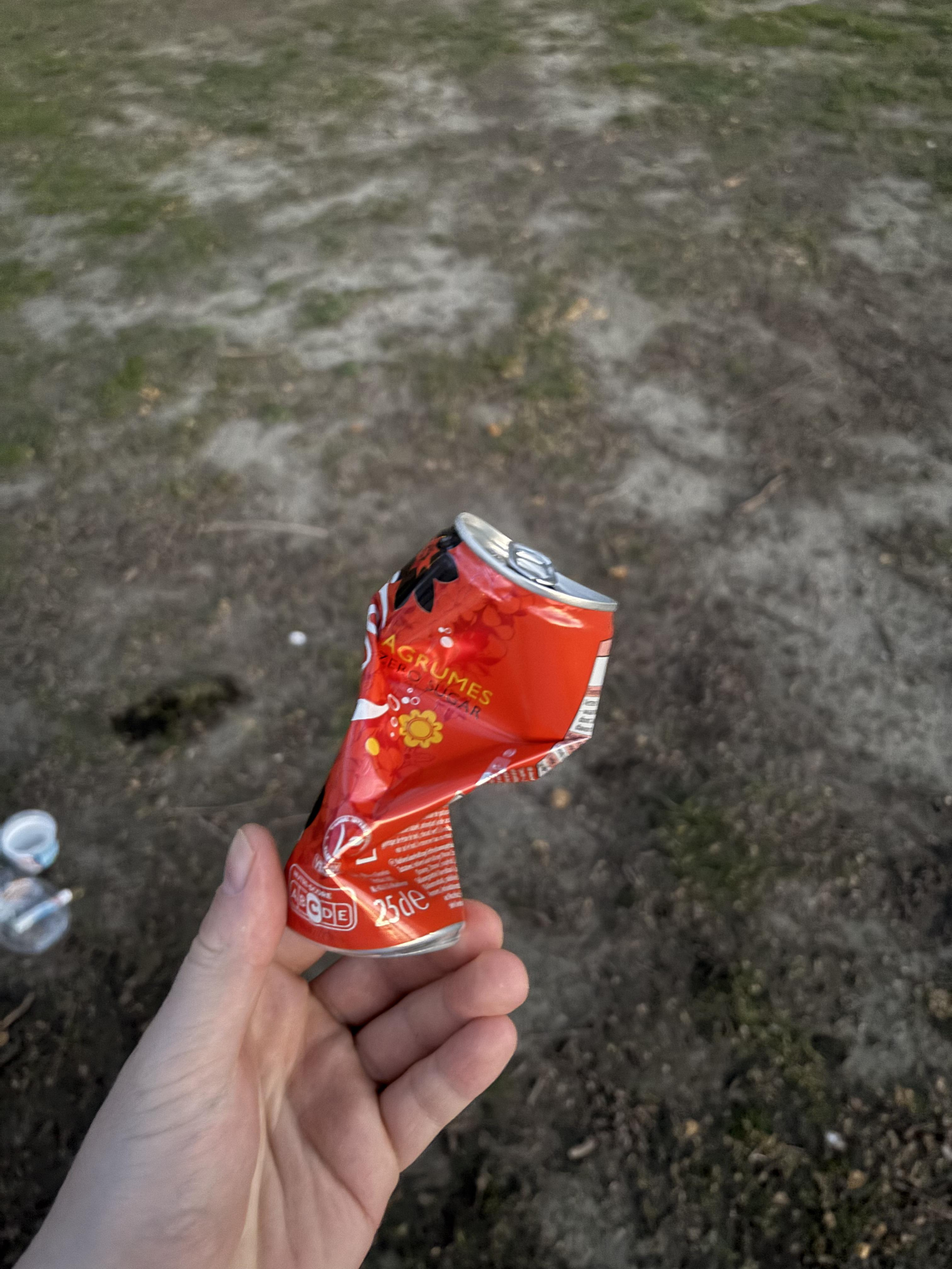Metal: (277, 505, 623, 970)
Plastic: (0, 800, 83, 950)
